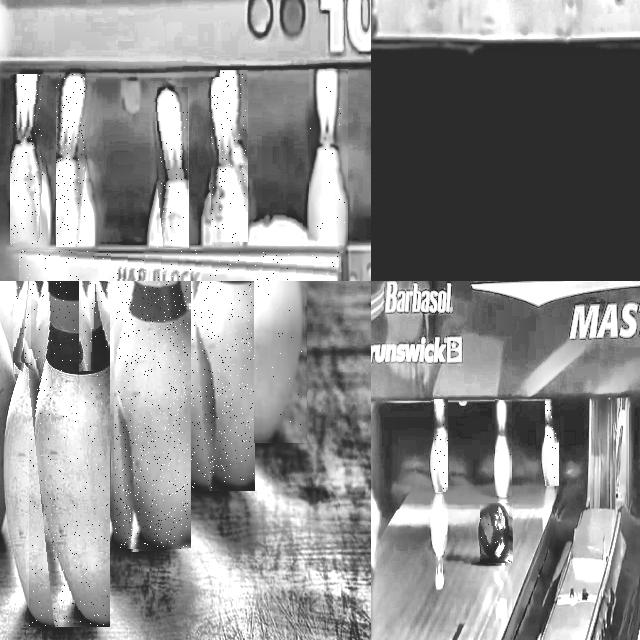bowling-ball: (480, 503, 510, 561)
bowling-pins: (31, 281, 109, 626), (114, 281, 188, 549), (192, 281, 254, 488), (245, 281, 304, 442), (309, 70, 348, 244), (11, 75, 43, 244), (56, 75, 85, 246), (158, 88, 188, 248), (211, 78, 239, 244), (220, 70, 246, 203), (91, 281, 127, 362), (495, 400, 511, 496), (14, 281, 30, 362), (434, 400, 448, 489), (81, 281, 93, 371), (546, 399, 556, 486)
sweep board: (20, 250, 340, 281)
